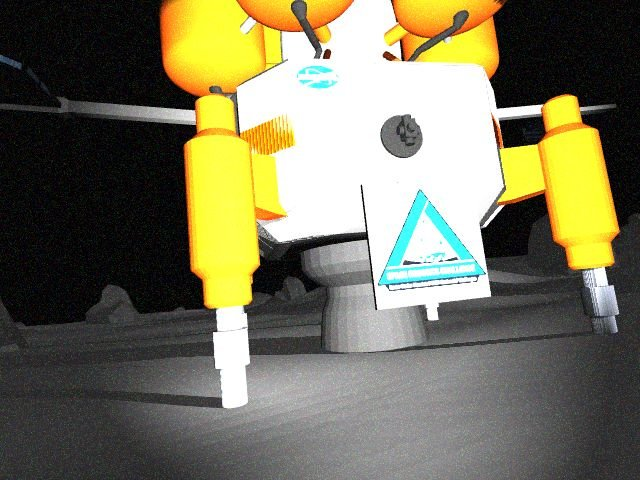basemarker: (377, 188, 487, 290)
